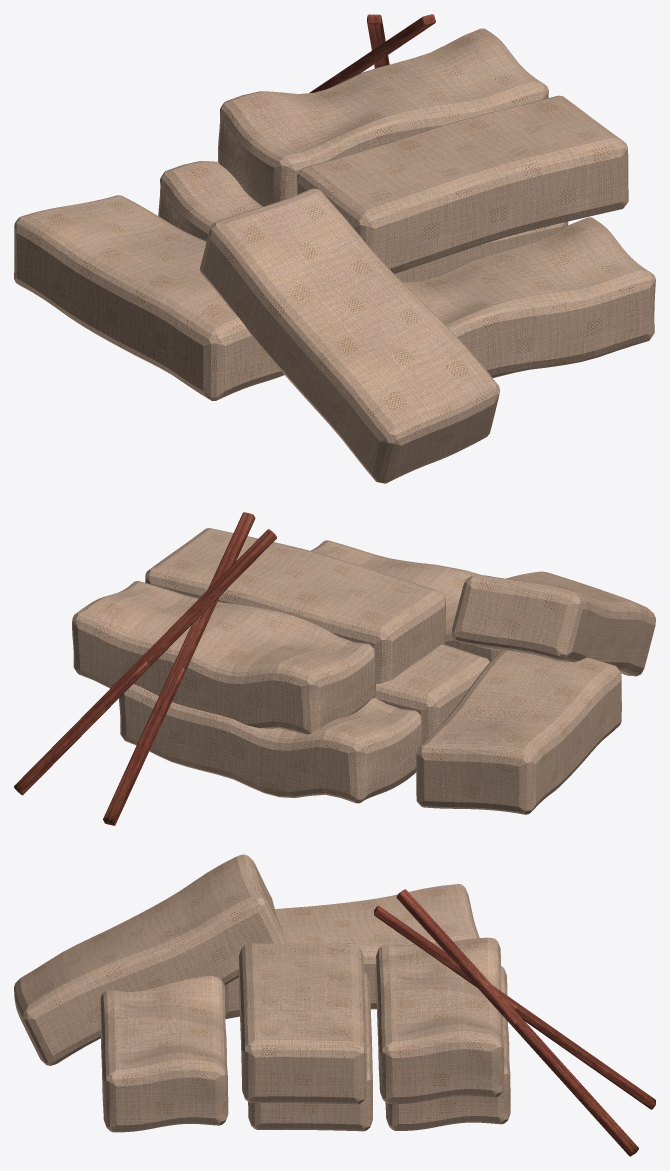
Rendered from 货物堆01.fbx.
3 views of the same model, one above another, from view 1: azimuth 30°, elevation 25°; view 2: azimuth 150°, elevation 25°; view 3: azimuth 270°, elevation 25° (orthographic). The views are drawn at different scales.
Parts seen in each view (by area): view 1: qingmo_obj_486 [10484540], qingmo_obj_489 [10484576], qingmo_obj_481 [10484432], qingmo_obj_471 [10484429], qingmo_obj_488 [10484615], qingmo_obj_484 [10484612], qingmo_obj_476 [10484189], qingmo_obj_490 [10484483]; view 2: qingmo_obj_471 [10484429], qingmo_obj_481 [10484432], qingmo_obj_484 [10484612], qingmo_obj_489 [10484576], qingmo_obj_486 [10484540], qingmo_obj_476 [10484189], qingmo_obj_480 [10484555], qingmo_obj_490 [10484483], qingmo_obj_488 [10484615]; view 3: qingmo_obj_486 [10484540], qingmo_obj_489 [10484576], qingmo_obj_471 [10484429], qingmo_obj_488 [10484615], qingmo_obj_481 [10484432], qingmo_obj_480 [10484555], qingmo_obj_476 [10484189], qingmo_obj_484 [10484612], qingmo_obj_490 [10484483].
Boxes of the visible parts, x1,y1,x2,y2 form: qingmo_obj_486 [10484540]: (200,188,500,483); qingmo_obj_489 [10484576]: (297,95,628,273); qingmo_obj_481 [10484432]: (14,195,284,400); qingmo_obj_471 [10484429]: (218,28,548,206); qingmo_obj_488 [10484615]: (403,217,655,377); qingmo_obj_484 [10484612]: (158,161,262,241); qingmo_obj_476 [10484189]: (394,221,568,282); qingmo_obj_490 [10484483]: (309,14,435,92); qingmo_obj_471 [10484429]: (72,581,375,734); qingmo_obj_481 [10484432]: (416,649,621,814); qingmo_obj_484 [10484612]: (119,684,422,803); qingmo_obj_489 [10484576]: (145,528,445,683); qingmo_obj_486 [10484540]: (452,571,655,676); qingmo_obj_476 [10484189]: (375,644,489,742); qingmo_obj_480 [10484555]: (14,529,276,795); qingmo_obj_490 [10484483]: (103,512,255,825); qingmo_obj_488 [10484615]: (310,540,499,661); qingmo_obj_486 [10484540]: (14,854,286,1065); qingmo_obj_489 [10484576]: (239,942,366,1104); qingmo_obj_471 [10484429]: (376,937,504,1103); qingmo_obj_488 [10484615]: (100,976,228,1132); qingmo_obj_481 [10484432]: (224,884,479,1018); qingmo_obj_480 [10484555]: (396,889,638,1156); qingmo_obj_476 [10484189]: (248,972,372,1131); qingmo_obj_484 [10484612]: (385,966,510,1130); qingmo_obj_490 [10484483]: (374,905,655,1109).
Bounding box in the file's own units: 15.22 × 19.68 × 7.77.
Materials: 2 (2 with a texture image).
